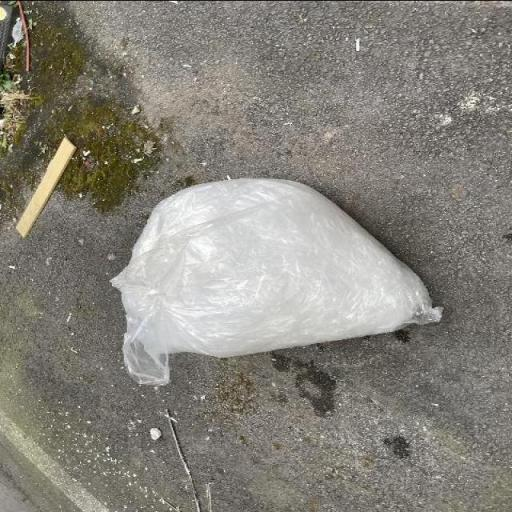plastic-bag: (108, 174, 444, 392)
